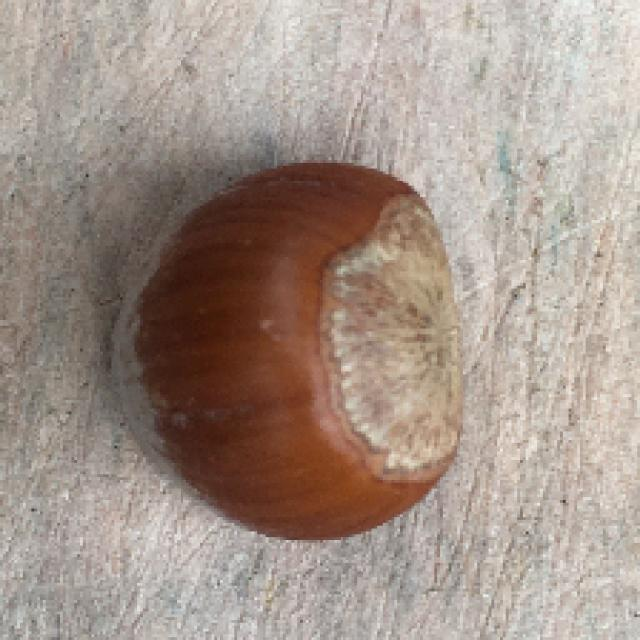hazelnut: (87, 149, 477, 553)
